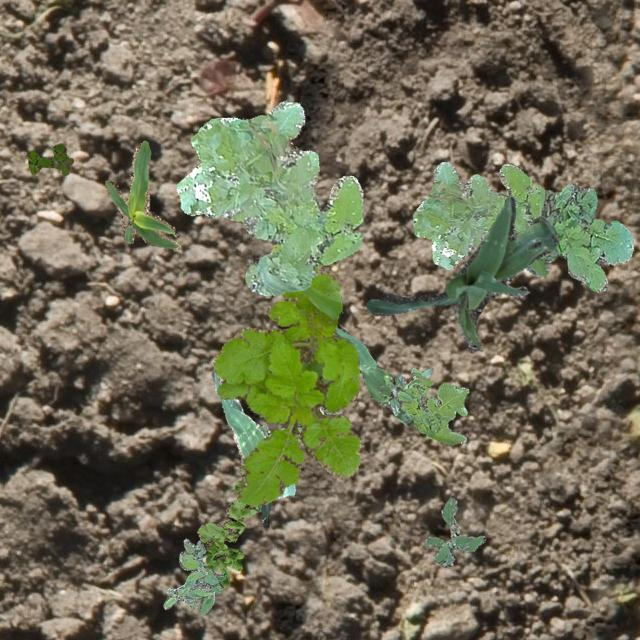crop: (366, 196, 558, 352), (210, 369, 296, 526), (334, 322, 432, 424), (104, 140, 180, 250)
weed: (212, 242, 361, 506), (176, 100, 362, 294), (412, 160, 544, 268), (552, 182, 632, 290), (196, 459, 258, 586), (400, 366, 468, 444), (162, 538, 226, 614), (424, 496, 484, 566), (524, 188, 560, 276), (260, 406, 342, 436), (27, 142, 72, 174), (378, 374, 412, 414)
